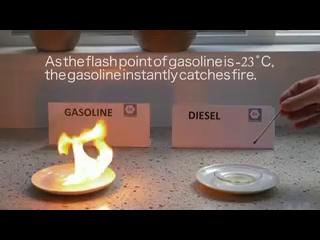Fire: (59, 114, 116, 187)
